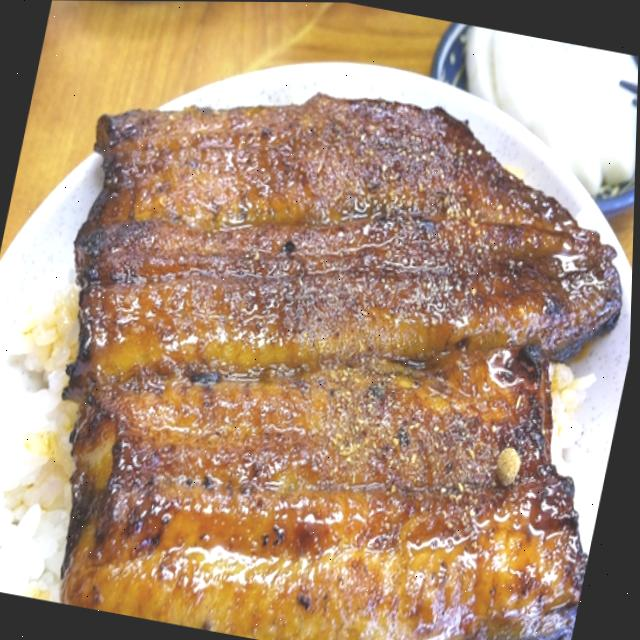熟制海鲜: (0, 21, 640, 640)
